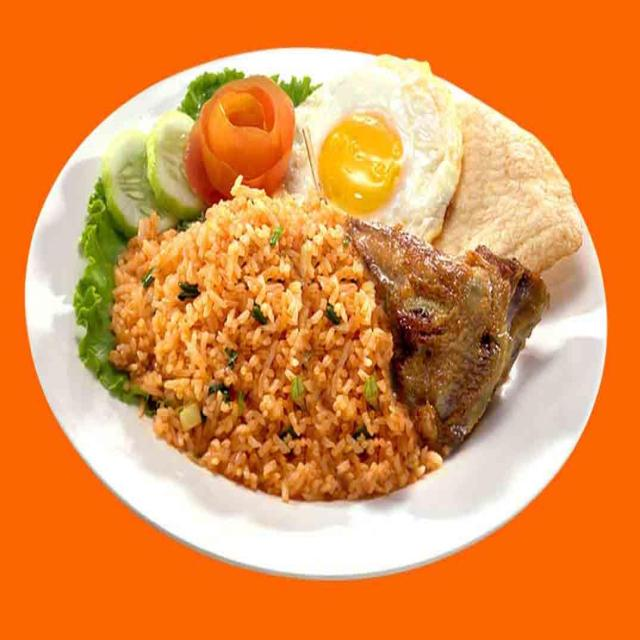Nasi Goreng: (96, 200, 404, 503)
